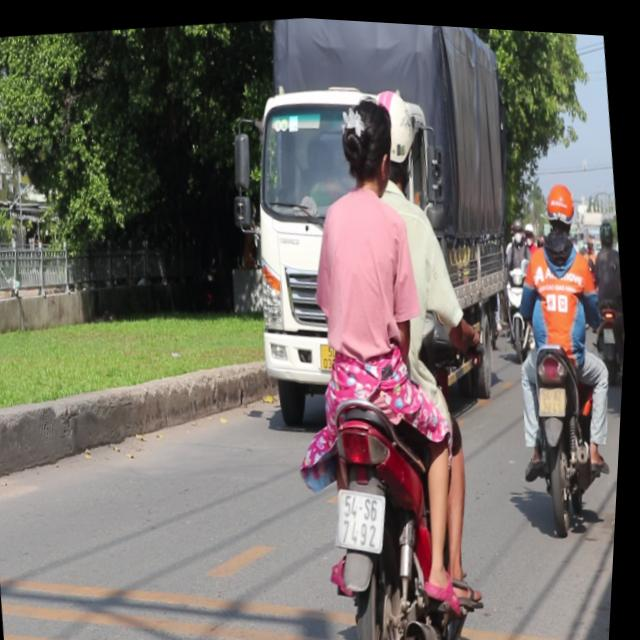helmet: (373, 80, 429, 191), (541, 170, 580, 229)
licenseplate: (248, 72, 524, 640), (488, 164, 634, 532)
motorcyclist: (333, 83, 403, 194)
nohelmet: (335, 479, 395, 551), (539, 377, 571, 411)
